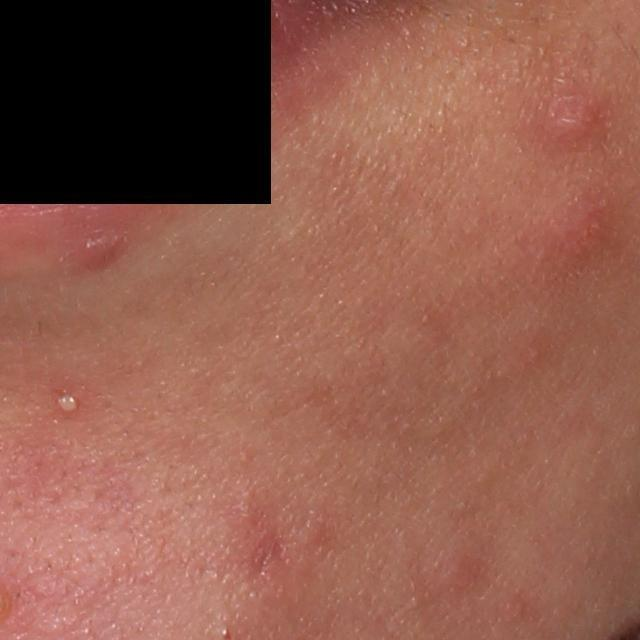papule: (513, 184, 626, 279), (529, 79, 616, 152), (72, 225, 139, 279)
